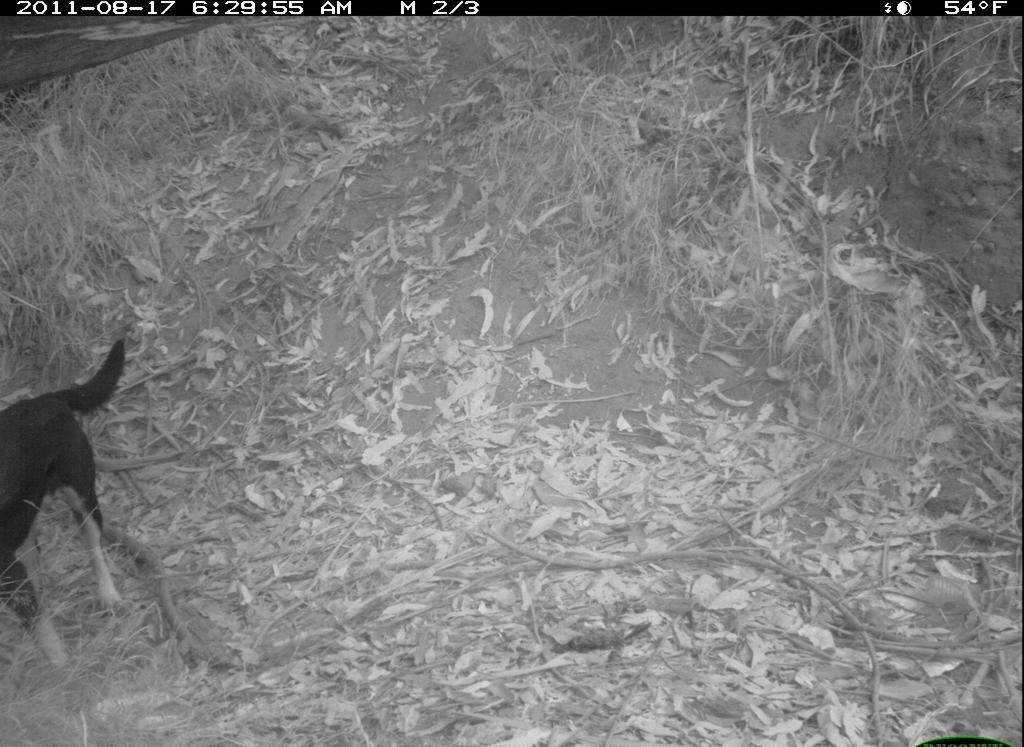dog: (1, 327, 149, 676)
